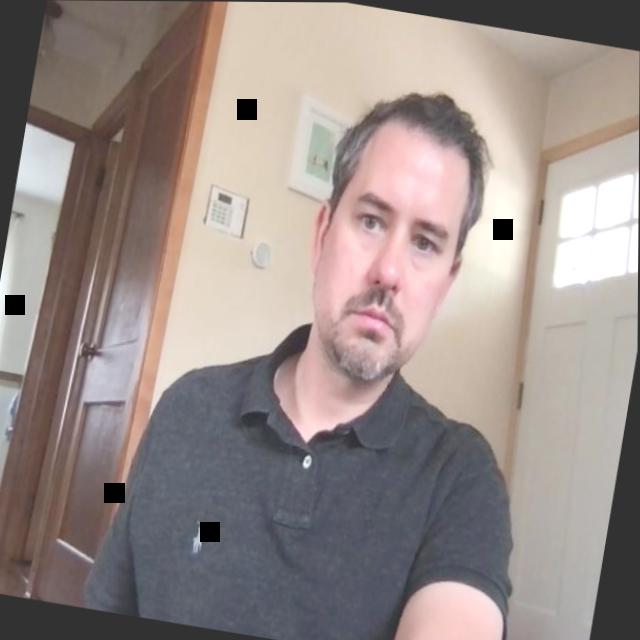NO-Mask: (285, 78, 500, 405)
